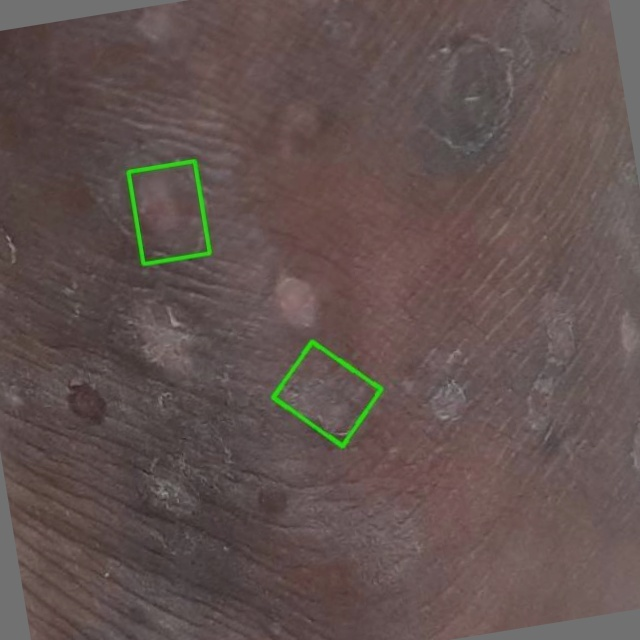Contact Dermatitis: (272, 342, 380, 446), (128, 160, 209, 263)
